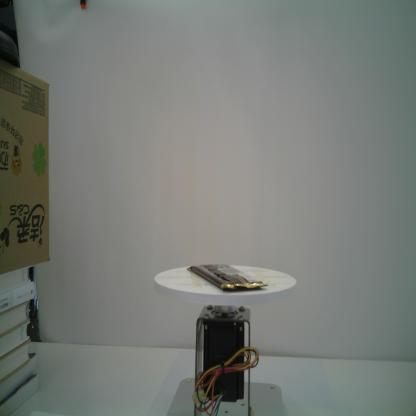Chocolate: (184, 260, 268, 291)
